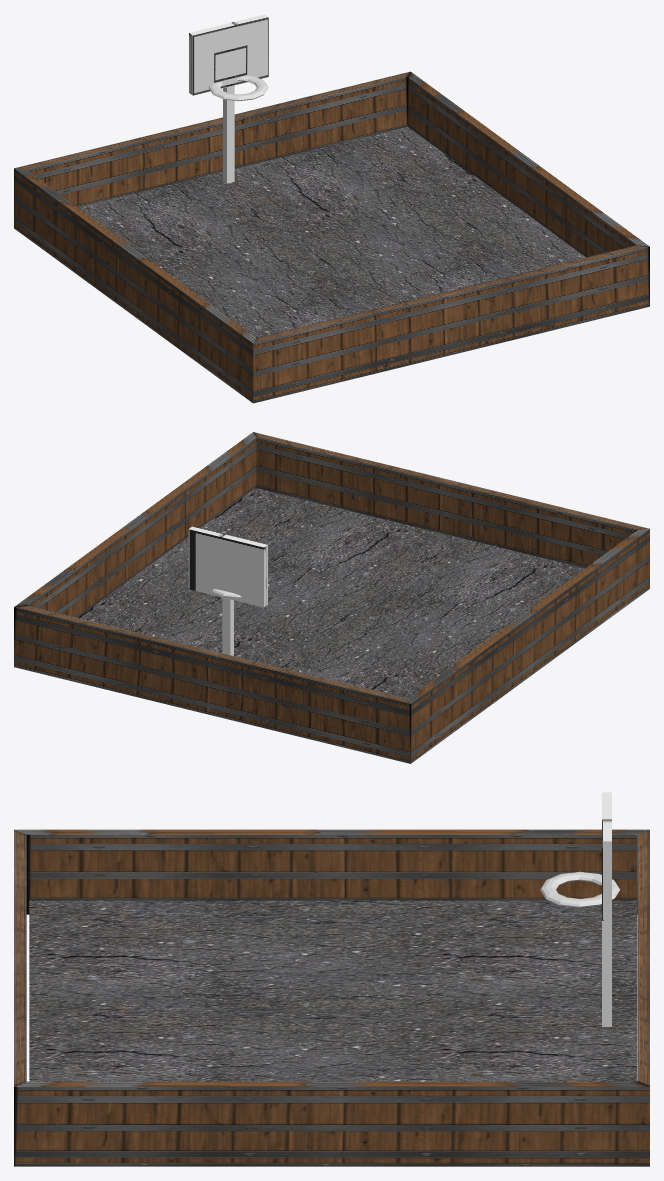
File: basket.fbx
3 views of the same model, one above another, from view 1: azimuth 30°, elevation 25°; view 2: azimuth 150°, elevation 25°; view 3: azimuth 270°, elevation 25° (orthographic). The views are drawn at different scales.
Parts seen in each view (by area): view 1: Cube.002, Cube, Cube.001, Torus; view 2: Cube.002, Cube, Cube.001; view 3: Cube, Cube.002, Cube.001, Torus.
Boxes of the visible parts, bbox=[...] form: Cube.002: bbox=[14, 71, 649, 403]; Cube: bbox=[78, 126, 585, 337]; Cube.001: bbox=[189, 14, 268, 183]; Torus: bbox=[208, 75, 268, 101]; Cube.002: bbox=[14, 432, 649, 763]; Cube: bbox=[78, 488, 584, 698]; Cube.001: bbox=[188, 526, 267, 655]; Cube: bbox=[29, 900, 636, 1081]; Cube.002: bbox=[14, 829, 649, 1166]; Cube.001: bbox=[602, 792, 611, 1026]; Torus: bbox=[540, 871, 619, 907].
Bounding box in the file's own units: 1383 × 556 × 1444.
Materials: 3 (3 with a texture image).
